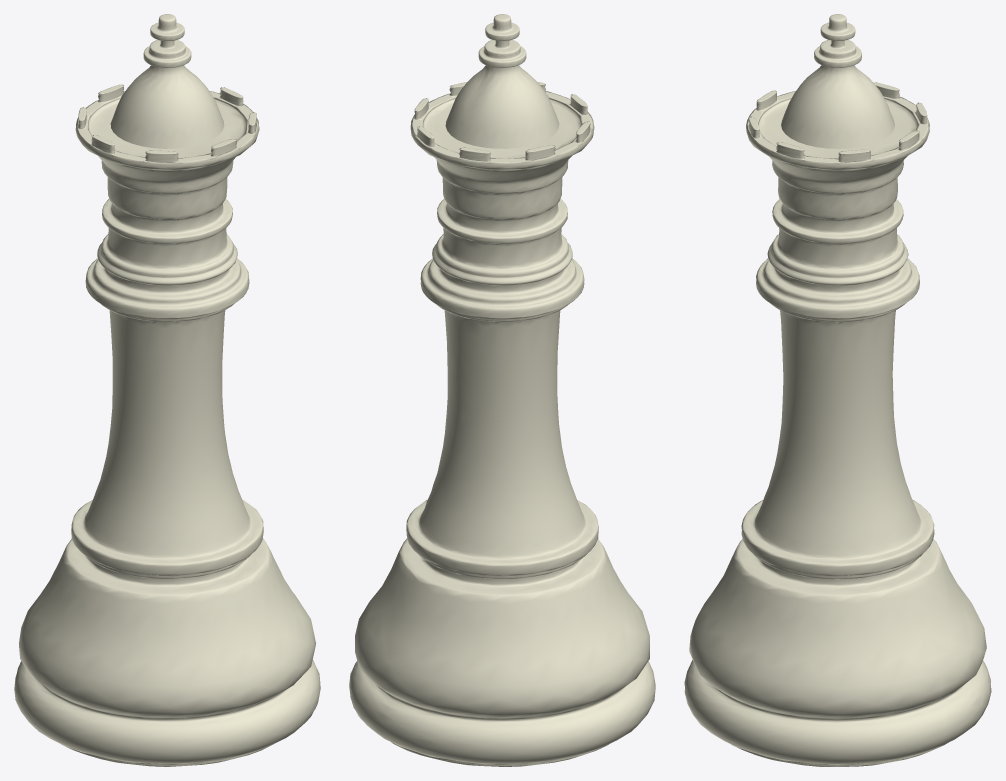
The picture shows the model from 3 angles, left to right: view 1: azimuth 30°, elevation 25°; view 2: azimuth 150°, elevation 25°; view 3: azimuth 270°, elevation 25°; orthographic projection.
Visible parts, largest first — view 1: Queen_02_2; view 2: Queen_02_2; view 3: Queen_02_2.
Part boxes in pixels (bbox=[...]): Queen_02_2: bbox=[14, 14, 320, 766]; Queen_02_2: bbox=[349, 14, 655, 766]; Queen_02_2: bbox=[684, 14, 991, 766].
Bounding box in the file's own units: 0.3161 × 0.7892 × 0.3161.
